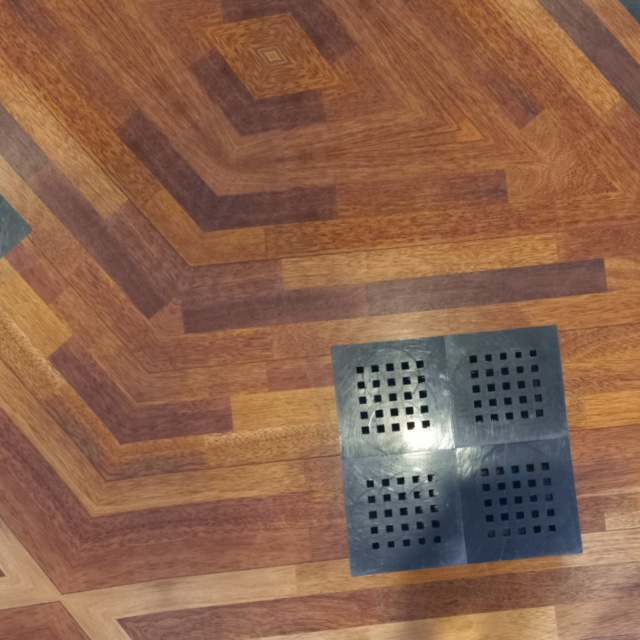pallet: (320, 319, 588, 585)
